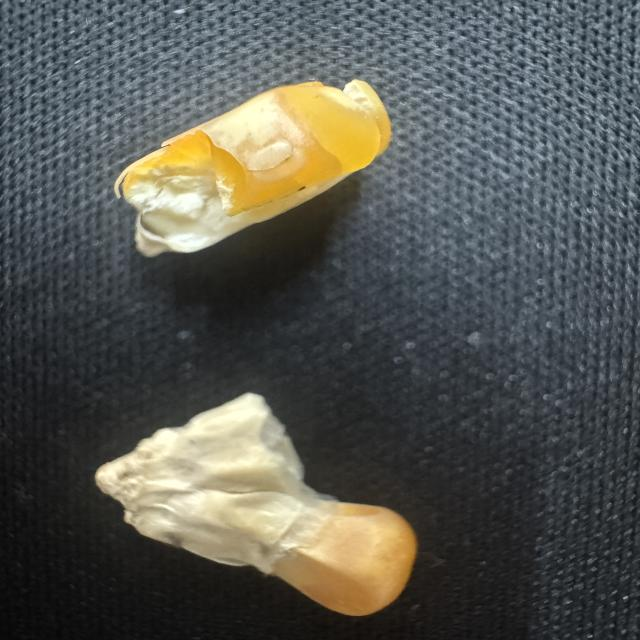Bad-Seed: (86, 384, 428, 624), (105, 71, 397, 264)
